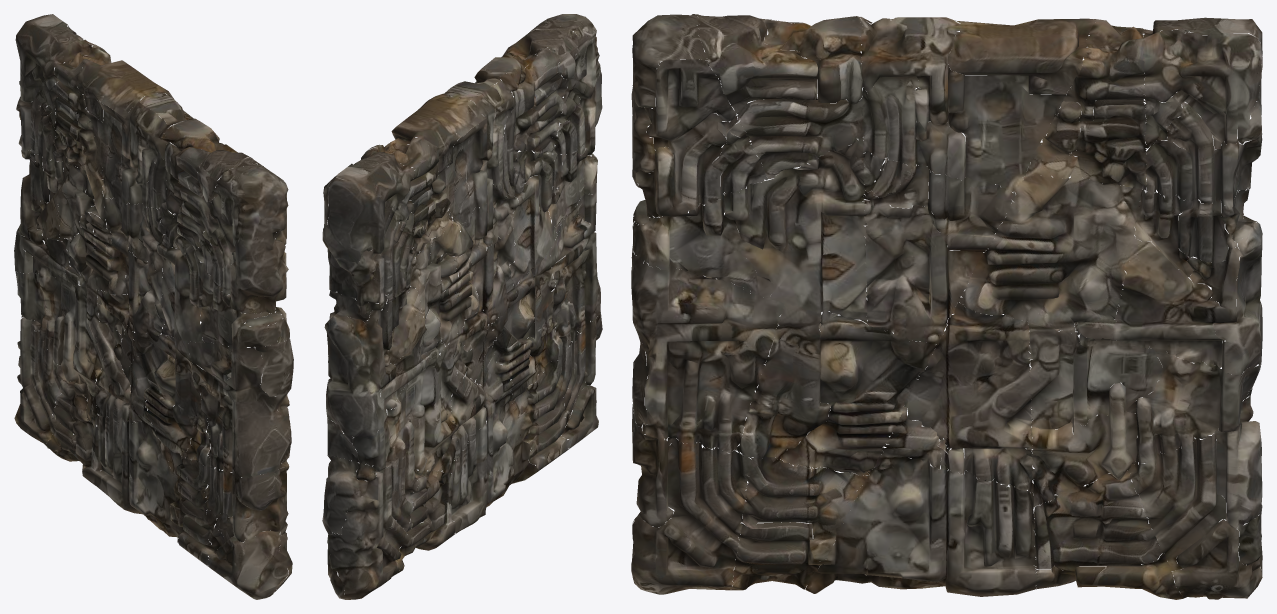
Rendered from arch_floor_stone_LOD0.glb.
3 views of the same model, side by side, from view 1: azimuth 30°, elevation 25°; view 2: azimuth 150°, elevation 25°; view 3: azimuth 270°, elevation 25° (orthographic). The views are drawn at different scales.
Parts seen in each view (by area): view 1: tripo_node_d47b0ee3-ac23-4a6f-a88d-3b07333e5048; view 2: tripo_node_d47b0ee3-ac23-4a6f-a88d-3b07333e5048; view 3: tripo_node_d47b0ee3-ac23-4a6f-a88d-3b07333e5048.
Part boxes in pixels (left/top/right/bottom): tripo_node_d47b0ee3-ac23-4a6f-a88d-3b07333e5048: left=14, top=14, right=293, bottom=599; tripo_node_d47b0ee3-ac23-4a6f-a88d-3b07333e5048: left=322, top=14, right=602, bottom=599; tripo_node_d47b0ee3-ac23-4a6f-a88d-3b07333e5048: left=631, top=14, right=1262, bottom=599.
Bounding box in the file's own units: 0.16 × 0.995 × 1.
1 material, 1 textured.
